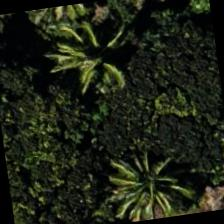Kelapa_Sawit: (37, 19, 139, 121), (91, 123, 194, 223)
